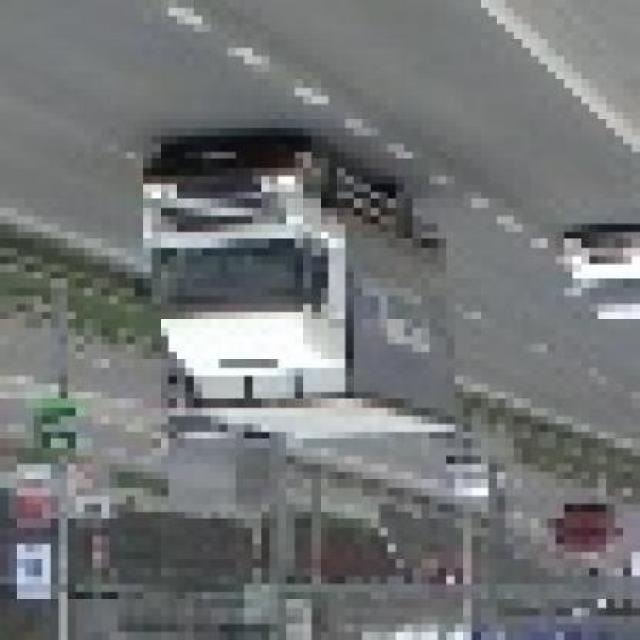truck: (127, 145, 464, 449)
